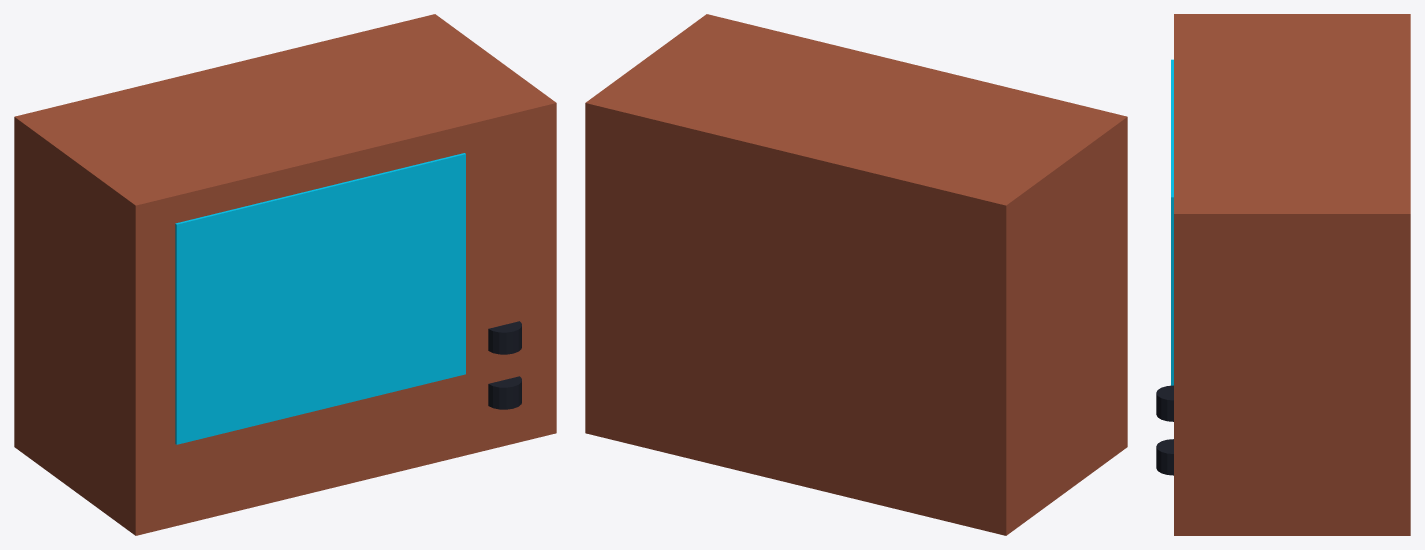
The model's file is OldTelevision.obj.
3 renders of one model, left to right at view 1: azimuth 30°, elevation 25°; view 2: azimuth 150°, elevation 25°; view 3: azimuth 270°, elevation 25°, orthographic. The views are drawn at different scales.
Parts seen in each view (by area): view 1: OldTelevision; view 2: OldTelevision; view 3: OldTelevision.
Boxes of the visible parts, x1,y1,x2,y2 form: OldTelevision: [14, 14, 556, 535]; OldTelevision: [585, 14, 1127, 535]; OldTelevision: [1156, 14, 1410, 535].
Size of the model in its own units: 0.8 by 0.6 by 0.43.
